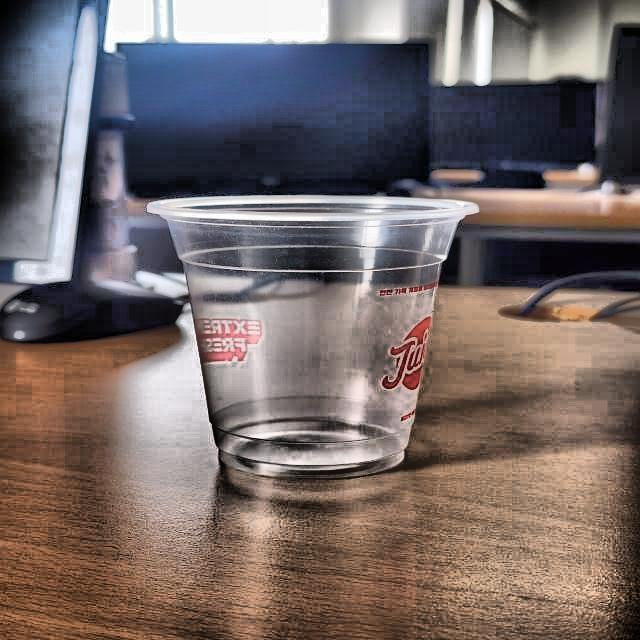plastic cup: (142, 192, 487, 478)
